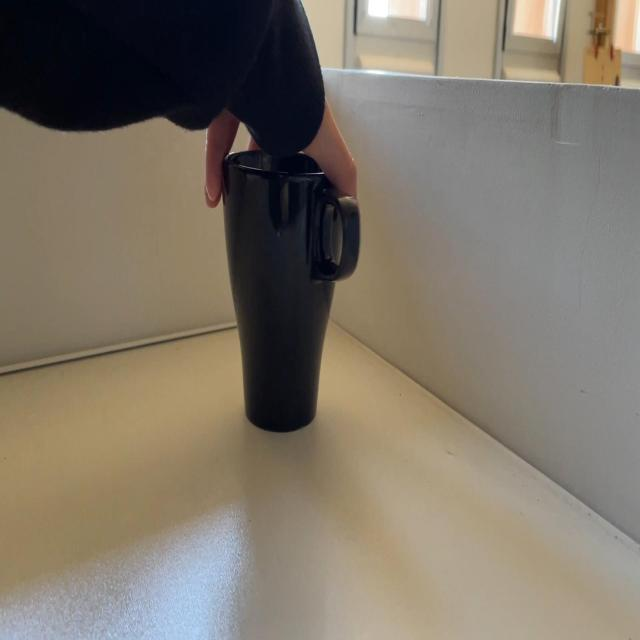cup: (220, 154, 360, 446)
